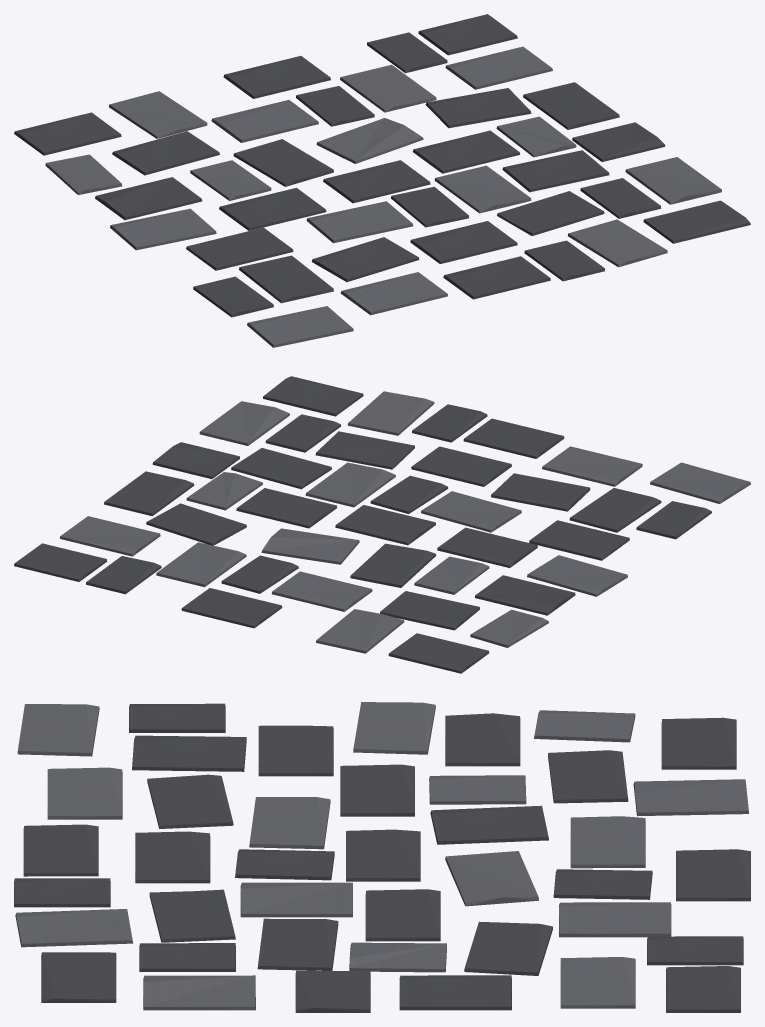
The model's file is Road_Path_Ground_1.fbx.
3 views of the same model, one above another, from view 1: azimuth 30°, elevation 25°; view 2: azimuth 150°, elevation 25°; view 3: azimuth 270°, elevation 25° (orthographic). The views are drawn at different scales.
Visible parts, largest first — view 1: polySurface9889; view 2: polySurface9889; view 3: polySurface9889.
Boxes of the visible parts, x1,y1,x2,y2 form: polySurface9889: (14, 14, 750, 347); polySurface9889: (14, 376, 750, 673); polySurface9889: (14, 702, 750, 1012).
Bounding box in the file's own units: 389 × 3.69 × 394.
